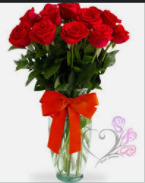RedRose: (31, 18, 58, 48), (61, 21, 89, 46)
